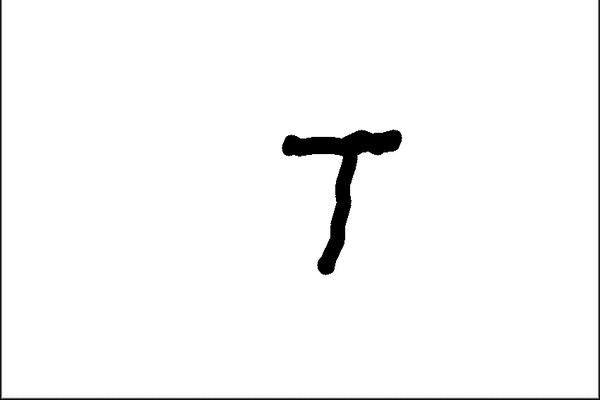T: (279, 127, 407, 278)
